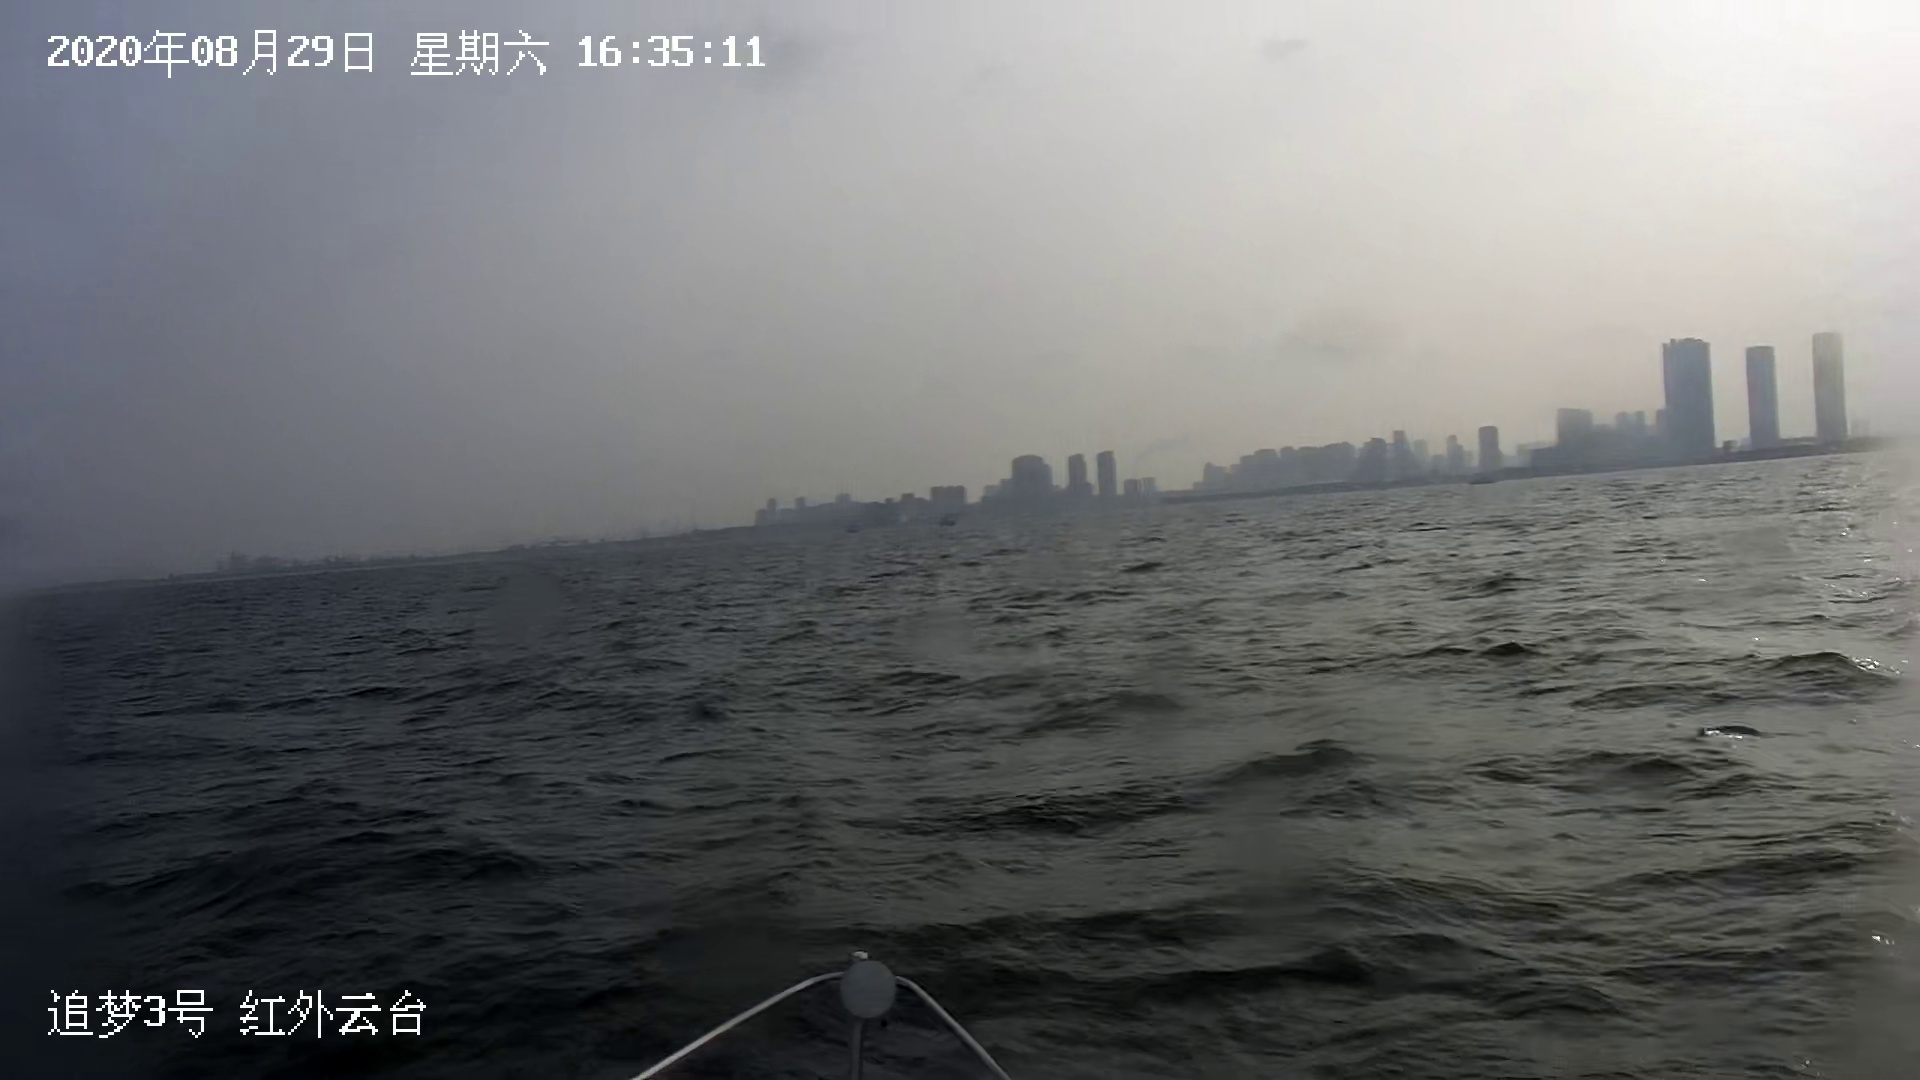coast: (24, 330, 1904, 600)
